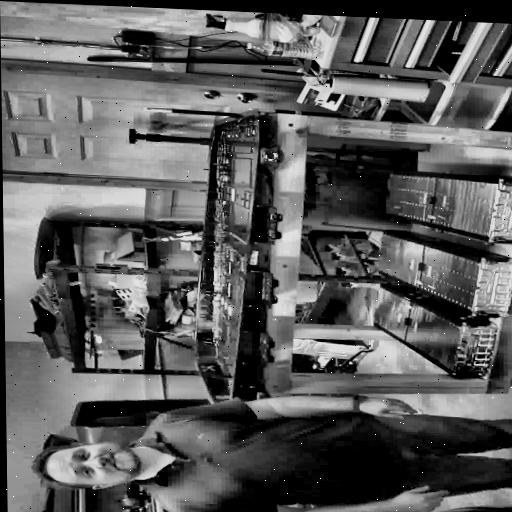b_casing: (191, 110, 260, 406)
battery_module: (429, 177, 499, 238), (419, 244, 482, 310), (405, 302, 463, 372), (375, 233, 425, 286), (386, 171, 437, 221), (373, 288, 412, 339)
